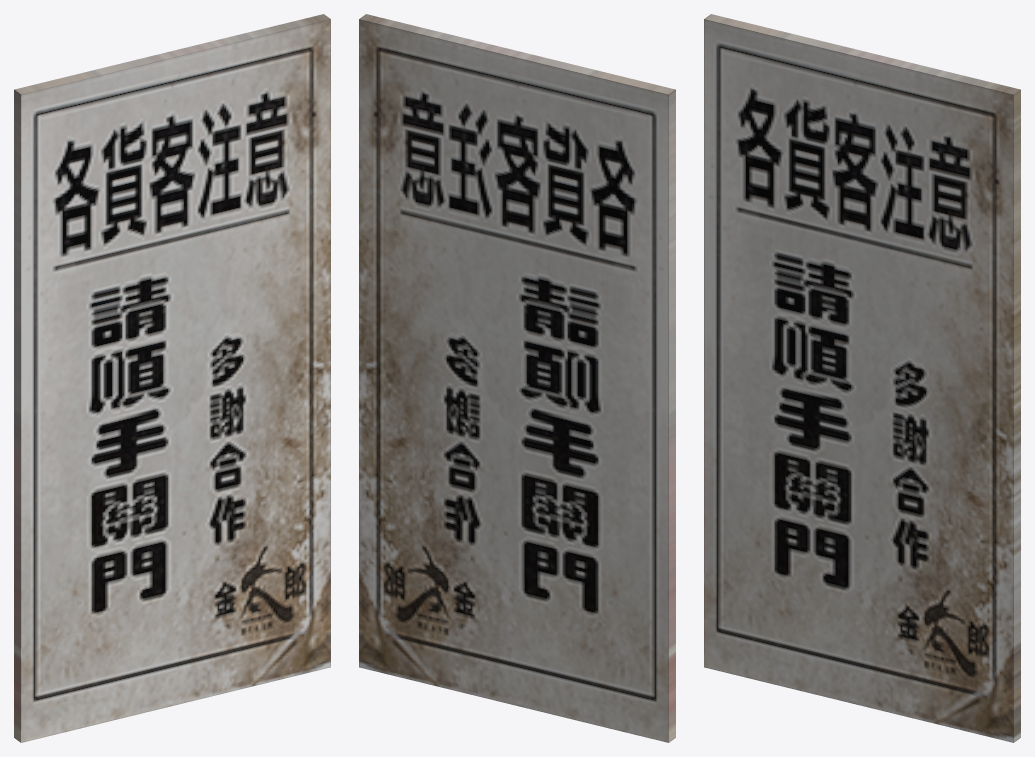
The model's file is CT_Signs_22.fbx.
3 renders of one model, left to right at view 1: azimuth 30°, elevation 25°; view 2: azimuth 150°, elevation 25°; view 3: azimuth 330°, elevation 25°, orthographic.
Visible parts, largest first — view 1: CT_Signs_22; view 2: CT_Signs_22; view 3: CT_Signs_22.
Part boxes in pixels (x1=…): CT_Signs_22: x1=14, y1=14, x2=330, y2=742; CT_Signs_22: x1=359, y1=14, x2=675, y2=742; CT_Signs_22: x1=704, y1=14, x2=1020, y2=742.
Size of the model in its own units: 64 by 128 by 2.5.
